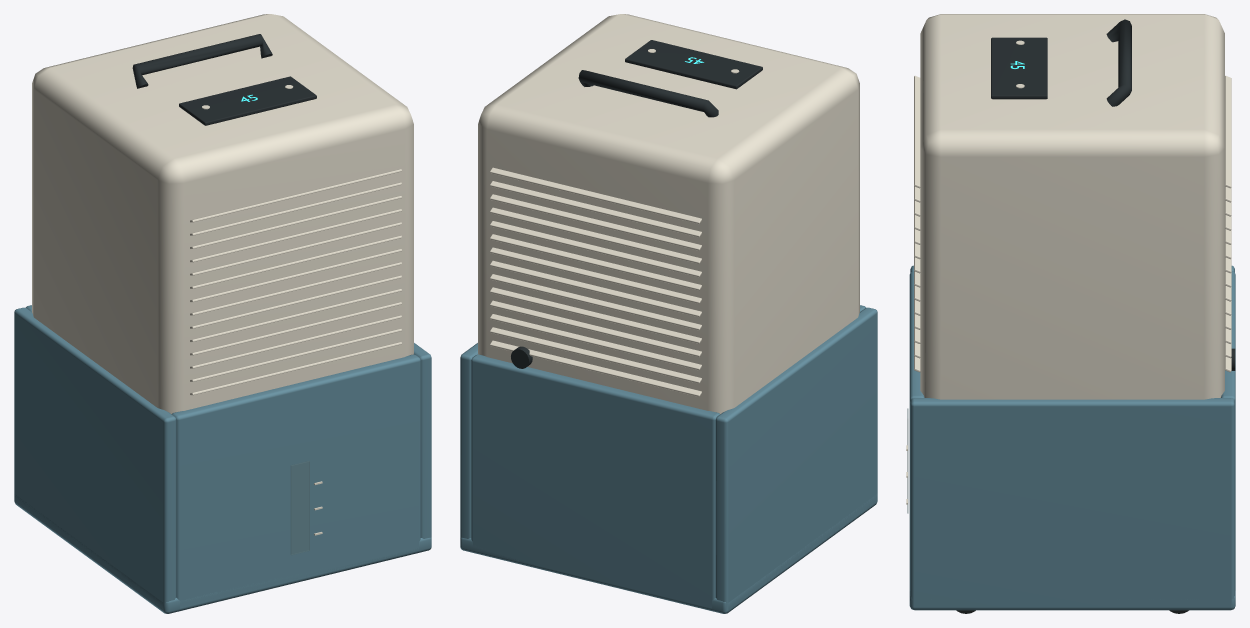
File: utility-dehumidifier.glb
3 renders of one model, left to right at view 1: azimuth 30°, elevation 25°; view 2: azimuth 150°, elevation 25°; view 3: azimuth 270°, elevation 25°, orthographic. The views are drawn at different scales.
Visible parts, largest first — view 1: utility-dehumidifier authored assembly; view 2: utility-dehumidifier authored assembly; view 3: utility-dehumidifier authored assembly.
Boxes of the visible parts, x1=… form: utility-dehumidifier authored assembly: x1=14, y1=14, x2=431, y2=613; utility-dehumidifier authored assembly: x1=460, y1=14, x2=877, y2=613; utility-dehumidifier authored assembly: x1=906, y1=14, x2=1235, y2=613.
Bounding box in the file's own units: 0.38 × 0.65 × 0.38.
